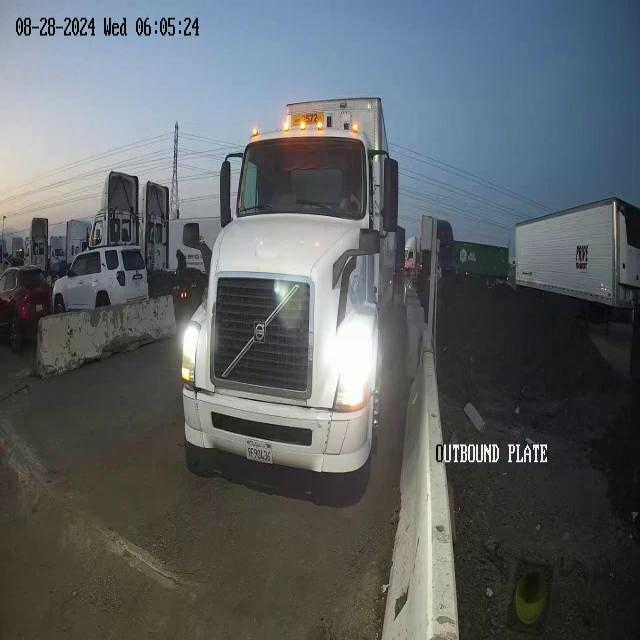TRUCK_OUT: (178, 93, 400, 485)
